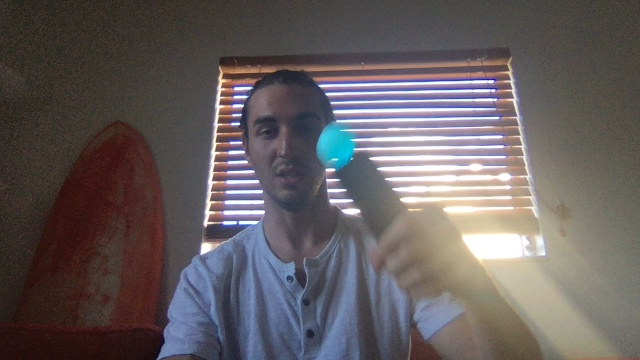wand: (317, 124, 356, 167)
